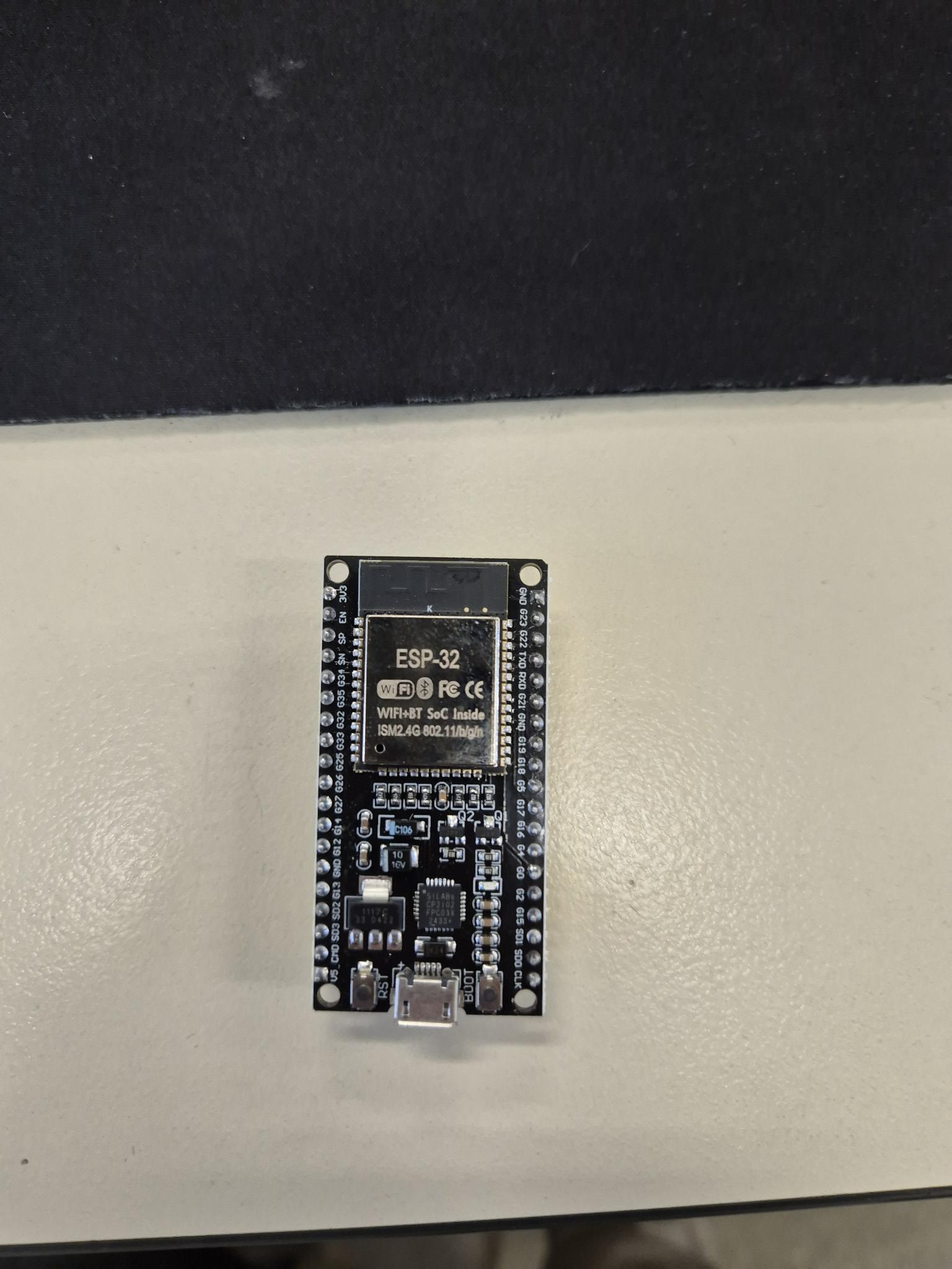esp32-dev: (322, 552, 546, 1020)
